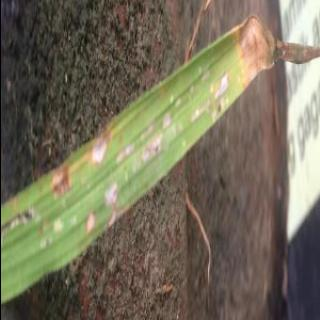Blast: (209, 14, 319, 96), (44, 152, 79, 206), (84, 130, 110, 164), (82, 210, 98, 240)
